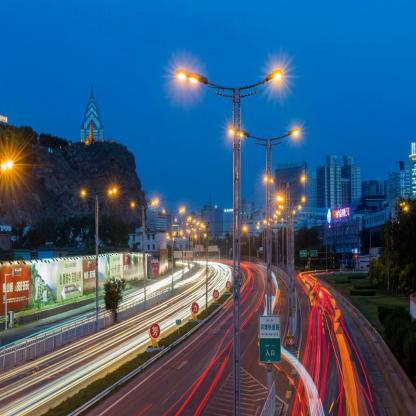other: (165, 203, 206, 250), (103, 179, 159, 213), (172, 60, 206, 104), (265, 172, 283, 238), (290, 169, 312, 222), (266, 58, 289, 103), (2, 144, 22, 192), (286, 123, 314, 156), (223, 116, 249, 151), (324, 204, 358, 226), (146, 326, 166, 345)
